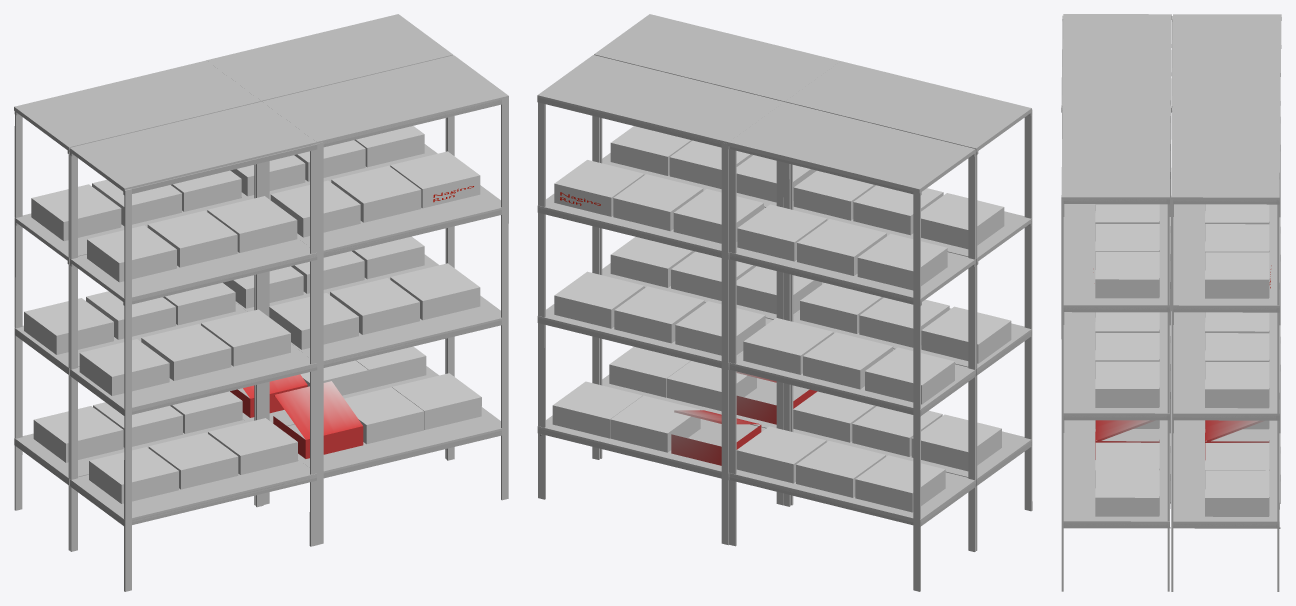
Rendered from Sem título.glb.
3 views of the same model, side by side, from view 1: azimuth 30°, elevation 25°; view 2: azimuth 150°, elevation 25°; view 3: azimuth 270°, elevation 25° (orthographic). The views are drawn at different scales.
Visible parts, largest first — view 1: shelf_0_panel.003, shelf_0_panel.002, shelf_0_panel.001, shelf_0_panel, shelf_1_panel.002, shelf_3_panel.002, shelf_2_panel.002, shelf_1_panel.003, shelf_2_panel.003, shelf_3_panel.003, Cubo.032, upright_back_1.005 (+58 smaller); view 2: shelf_0_panel.001, shelf_0_panel, shelf_0_panel.002, shelf_0_panel.003, Cubo.008, upright_back_1.010, Cubo.011, Cubo.019, Cubo.005, Cubo.034, upright_back_1.002, Cubo.004 (+57 smaller); view 3: shelf_0_panel.003, shelf_0_panel, shelf_0_panel.001, shelf_0_panel.002, shelf_3_panel.003, shelf_3_panel, shelf_1_panel.003, shelf_1_panel, shelf_2_panel.003, shelf_2_panel, Cubo.030, Cubo.012 (+36 smaller).
Boxes of the visible parts, x1,y1,x2,y2 form: shelf_0_panel.003: (262, 55, 508, 144); shelf_0_panel.002: (69, 101, 316, 192); shelf_0_panel.001: (14, 60, 261, 150); shelf_0_panel: (206, 14, 452, 101); shelf_1_panel.002: (70, 238, 317, 302); shelf_3_panel.002: (70, 460, 316, 523); shelf_2_panel.002: (70, 344, 317, 413); shelf_1_panel.003: (297, 185, 501, 253); shelf_2_panel.003: (291, 295, 501, 364); shelf_3_panel.003: (288, 407, 501, 473); Cubo.032: (273, 381, 363, 458); upright_back_1.005: (14, 114, 22, 510); shelf_0_panel.001: (728, 102, 975, 193); shelf_0_panel: (537, 55, 783, 145); shelf_0_panel.002: (785, 61, 1031, 152); shelf_0_panel.003: (594, 14, 840, 101); Cubo.008: (610, 395, 700, 452); upright_back_1.010: (1024, 109, 1032, 511); Cubo.011: (855, 455, 945, 512); Cubo.019: (857, 233, 947, 290); Cubo.005: (865, 347, 954, 404); Cubo.034: (921, 306, 1011, 363); upright_back_1.002: (721, 142, 728, 545); Cubo.004: (803, 332, 893, 389); shelf_0_panel.003: (1061, 105, 1170, 201); shelf_0_panel: (1171, 105, 1280, 201); shelf_0_panel.001: (1172, 14, 1281, 107); shelf_0_panel.002: (1062, 14, 1171, 106); shelf_3_panel.003: (1063, 429, 1170, 525); shelf_3_panel: (1173, 430, 1280, 525); shelf_1_panel.003: (1063, 213, 1170, 309); shelf_1_panel: (1173, 213, 1280, 309); shelf_2_panel.003: (1063, 321, 1170, 417); shelf_2_panel: (1173, 322, 1280, 417); Cubo.030: (1095, 470, 1159, 516); Cubo.012: (1205, 252, 1269, 298).
Size of the model in its own units: 2 by 2.01 by 1.02.
